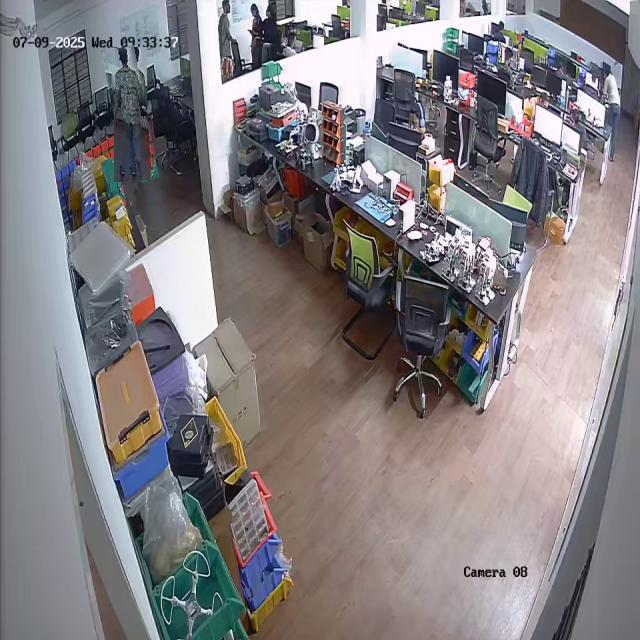person: (108, 46, 153, 183)
